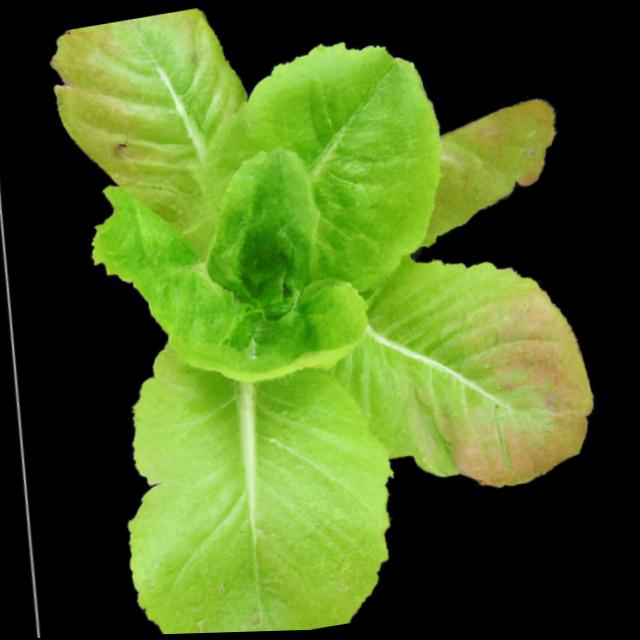-P: (13, 0, 640, 639)
